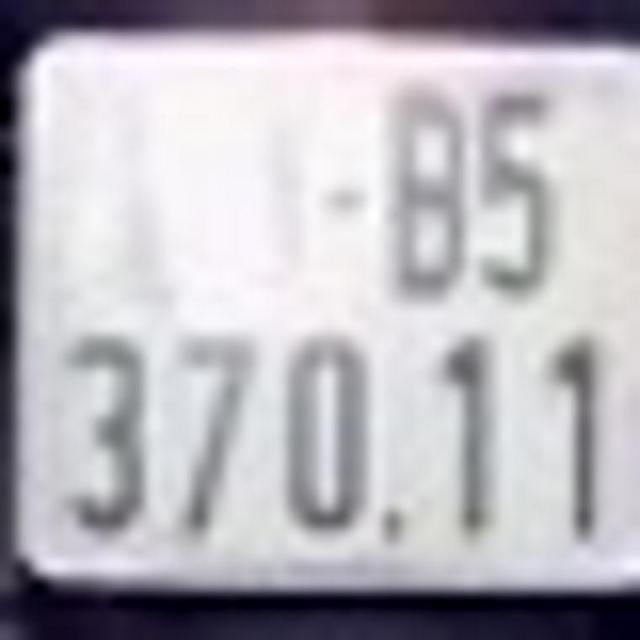0: (280, 326, 364, 528)
1: (548, 330, 608, 548), (443, 331, 497, 535)
3: (53, 332, 152, 532)
5: (478, 80, 557, 306)
7: (165, 322, 254, 538)
B: (389, 82, 467, 301)
